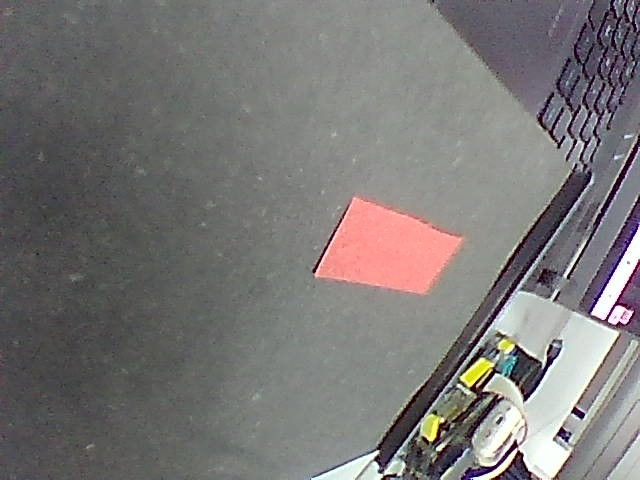card: (315, 197, 462, 293)
